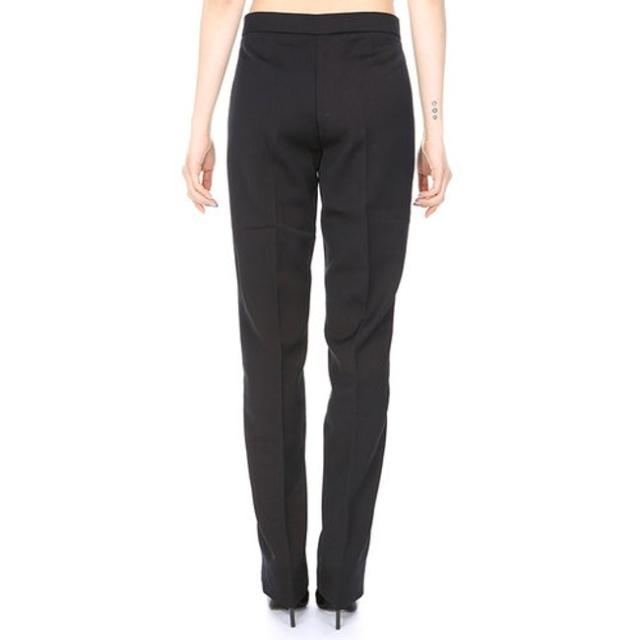long-pants: (224, 9, 416, 608)
